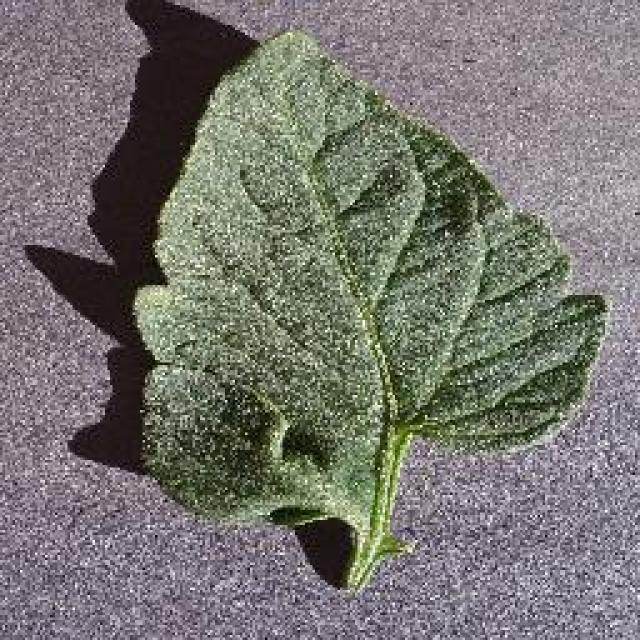Tomato_Healthy: (113, 25, 608, 546)
